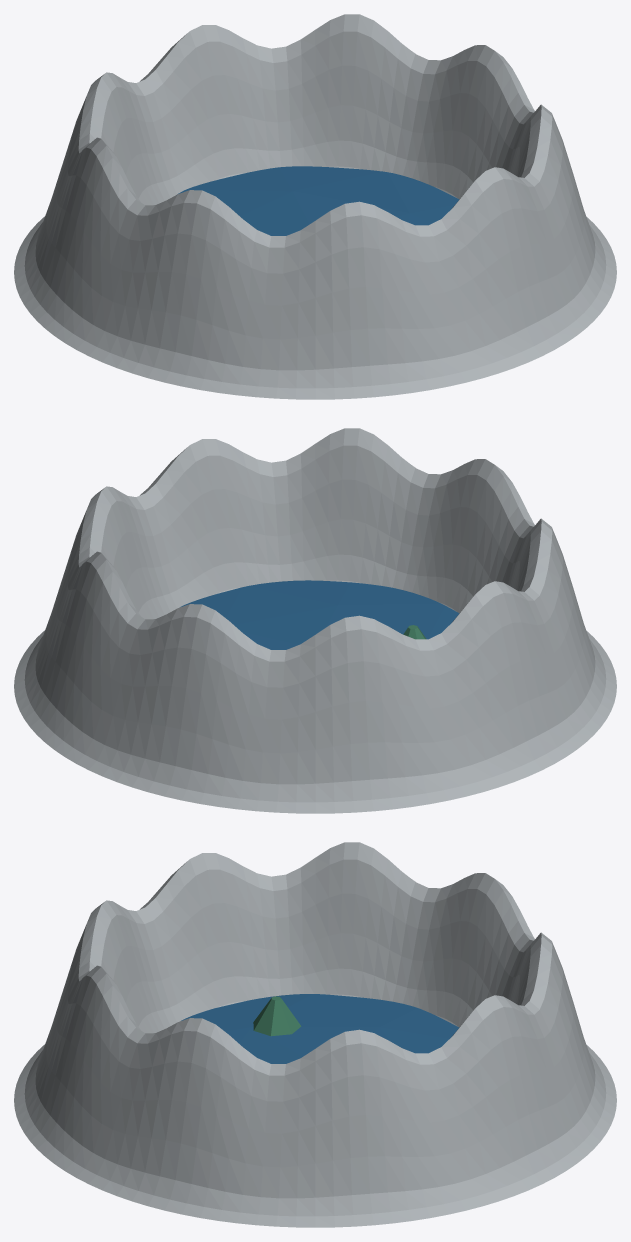
The model's file is FEATURE_CRATER_LAKE.fbx.
3 views of the same model, one above another, from view 1: azimuth 30°, elevation 25°; view 2: azimuth 150°, elevation 25°; view 3: azimuth 270°, elevation 25° (orthographic).
Visible parts, largest first — view 1: Caldera_rim, Caldera_lake; view 2: Caldera_rim, Caldera_lake; view 3: Caldera_rim, Caldera_lake, Eroded_spire.
Boxes of the visible parts, x1,y1,x2,y2 form: Caldera_rim: [14, 14, 616, 399]; Caldera_lake: [177, 166, 459, 235]; Caldera_rim: [14, 428, 616, 813]; Caldera_lake: [180, 580, 459, 649]; Caldera_rim: [14, 842, 616, 1227]; Caldera_lake: [181, 994, 459, 1063]; Eroded_spire: [253, 996, 301, 1036].
Size of the model in its own units: 154 by 46.41 by 154.
